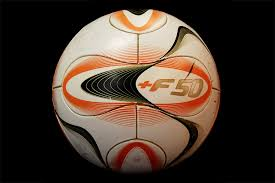football ball: (48, 8, 223, 175)
